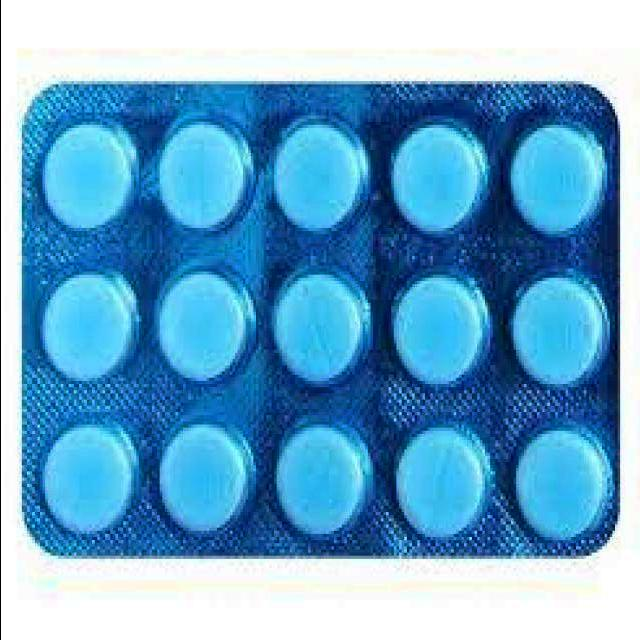authentic: (8, 59, 633, 576)
